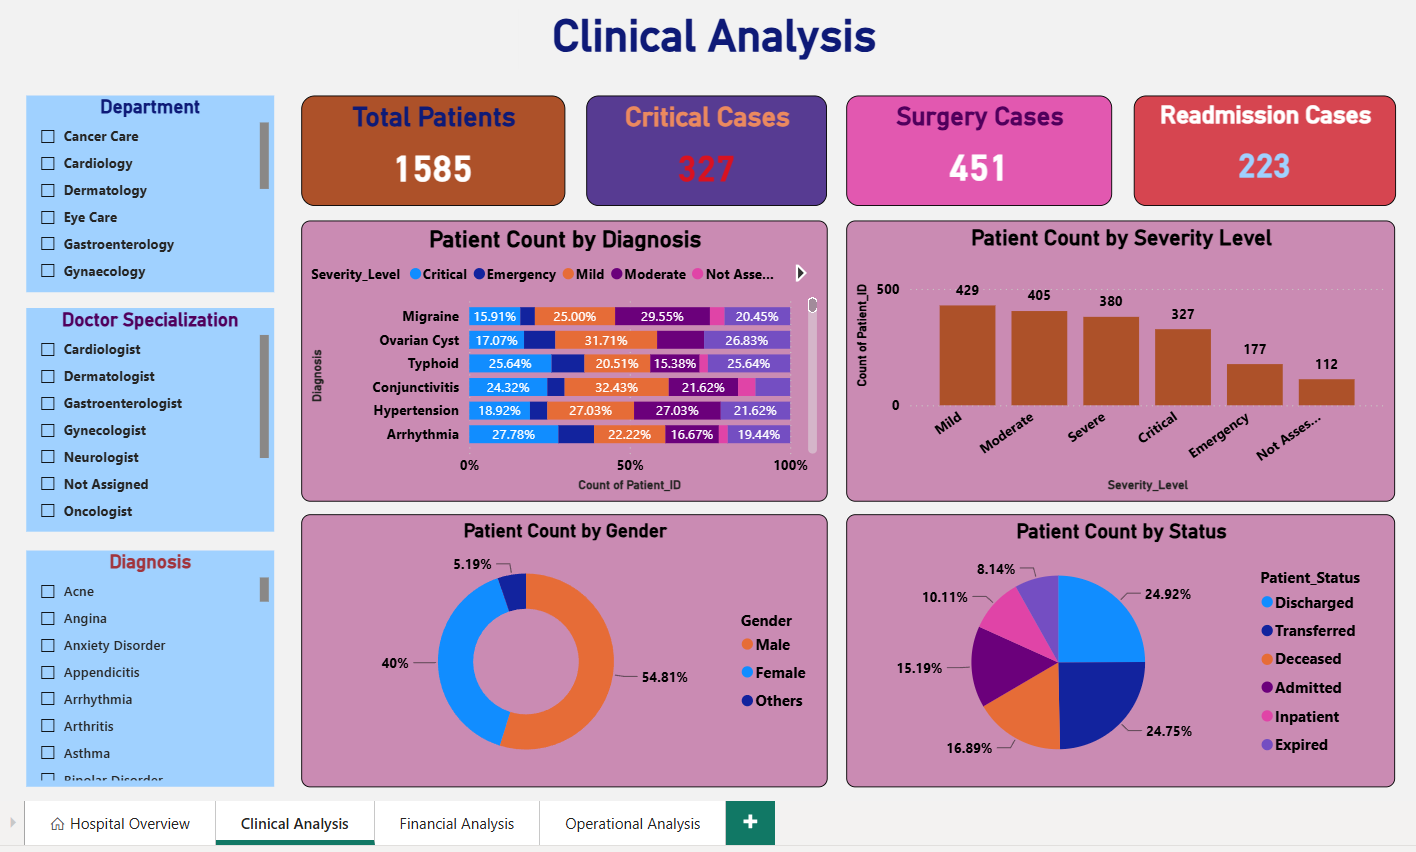

The page's visual inventory and layout, read from the dashboard file:
{"tool":"powerbi","page":{"name":"Clinical Analysis","canvas":[1280,720],"ordinal":1},"visuals":[{"type":"donutChart","title":" Patient Count by Gender","fields":{"Y":["CountNonNull(Raw_Patient_Data.Patient_ID)"],"Category":["Raw_Patient_Data.Gender"]},"box":[272.7,463.9,468.6,242.9],"z":0},{"type":"card","title":"Critical Cases","fields":{"Values":["Raw_Patient_Data.Critical Cases"]},"box":[526.6,90.9,214.7,98.7],"z":1000},{"type":"card","title":"Surgery Cases","fields":{"Values":["Raw_Patient_Data.Surgery Cases"]},"box":[758.5,90.9,236.7,98.7],"z":2000},{"type":"card","title":"Readmission Cases","fields":{"Values":["Raw_Patient_Data.Readmission Cases"]},"box":[1014,90.9,233.5,98.7],"z":3000},{"type":"slicer","title":"Department","fields":{"Values":["Raw_Patient_Data.Department"]},"box":[28.2,90.9,221,175.5],"z":4000},{"type":"clusteredColumnChart","title":"Patient Count by Severity Level","fields":{"Category":["Raw_Patient_Data.Severity_Level"],"Y":["CountNonNull(Raw_Patient_Data.Patient_ID)"]},"box":[758.5,202.2,489,250.8],"z":5000},{"type":"slicer","title":"Diagnosis","fields":{"Values":["Raw_Patient_Data.Diagnosis"]},"box":[28.2,496.8,221,210],"z":6000},{"type":"hundredPercentStackedBarChart","title":" Patient Count by  Diagnosis","fields":{"Series":["Raw_Patient_Data.Severity_Level"],"Category":["Raw_Patient_Data.Diagnosis"],"Y":["CountNonNull(Raw_Patient_Data.Patient_ID)"]},"box":[272.7,202.2,468.6,250.8],"z":7000},{"type":"slicer","title":"Doctor Specialization","fields":{"Values":["Raw_Patient_Data.Doctor_Specialization"]},"box":[28.2,280.5,221,199],"z":8000},{"type":"pieChart","title":"Patient Count by Status","fields":{"Category":["Raw_Patient_Data.Patient_Status"],"Y":["CountNonNull(Raw_Patient_Data.Patient_ID)"]},"box":[758.5,463.9,489,242.9],"z":9000},{"type":"card","title":"Total Patients","fields":{"Values":["Raw_Patient_Data.Toatal Patients"]},"box":[272.7,90.9,235.1,98.7],"z":10000},{"type":"textbox","title":"Clinical Analysis","box":[473.3,11,330.7,62.7],"z":11000}]}

Visuals, with their boxes on the page's 1280x720 design canvas (x1, y1, x2, y2). These are canvas units, not pixel positions in the 1416x852 screenshot, which may show the page scaled, cropped or inside an application window:
" Patient Count by Gender" donutChart: Rect(273, 464, 741, 707)
"Critical Cases" card: Rect(527, 91, 741, 190)
"Surgery Cases" card: Rect(758, 91, 995, 190)
"Readmission Cases" card: Rect(1014, 91, 1248, 190)
"Department" slicer: Rect(28, 91, 249, 266)
"Patient Count by Severity Level" clusteredColumnChart: Rect(758, 202, 1248, 453)
"Diagnosis" slicer: Rect(28, 497, 249, 707)
" Patient Count by  Diagnosis" hundredPercentStackedBarChart: Rect(273, 202, 741, 453)
"Doctor Specialization" slicer: Rect(28, 280, 249, 480)
"Patient Count by Status" pieChart: Rect(758, 464, 1248, 707)
"Total Patients" card: Rect(273, 91, 508, 190)
"Clinical Analysis" textbox: Rect(473, 11, 804, 74)
